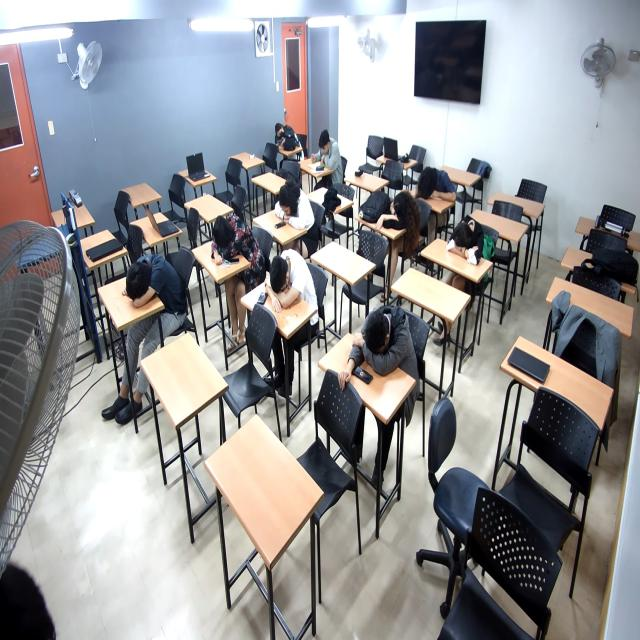sleep: (348, 308, 420, 387), (119, 254, 190, 307), (263, 253, 321, 317), (208, 214, 257, 267), (374, 189, 424, 237), (274, 182, 320, 230), (446, 219, 488, 266), (417, 166, 460, 202), (273, 122, 305, 153)
